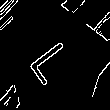L_NE: (27, 34, 83, 88)
